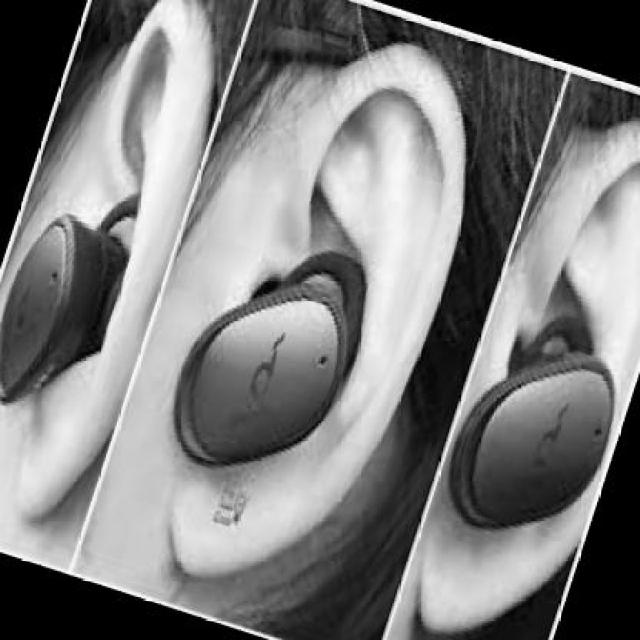earphone: (155, 238, 376, 477), (466, 287, 625, 541), (1, 175, 141, 410)
